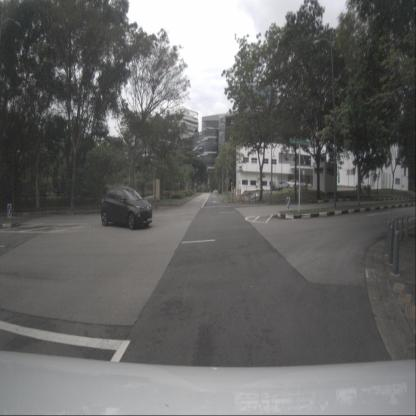vehicle-car: (101, 186, 152, 230), (355, 179, 371, 191), (288, 178, 302, 189), (277, 183, 289, 193), (270, 181, 280, 192)
